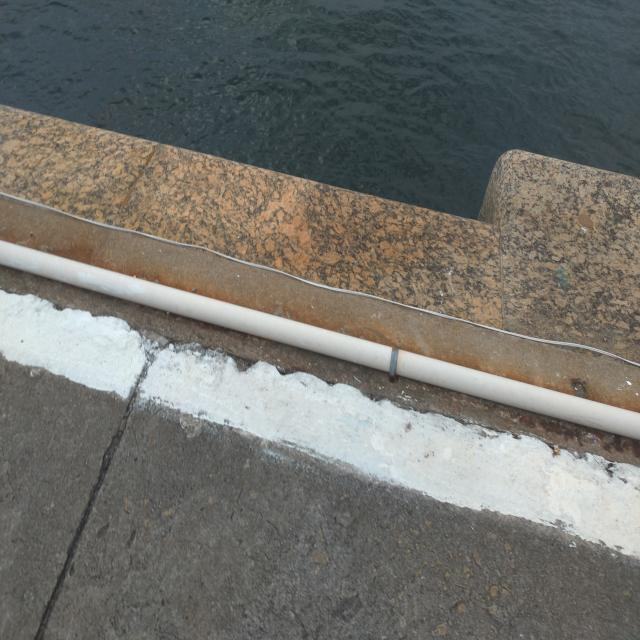gas: (1, 243, 639, 439)
